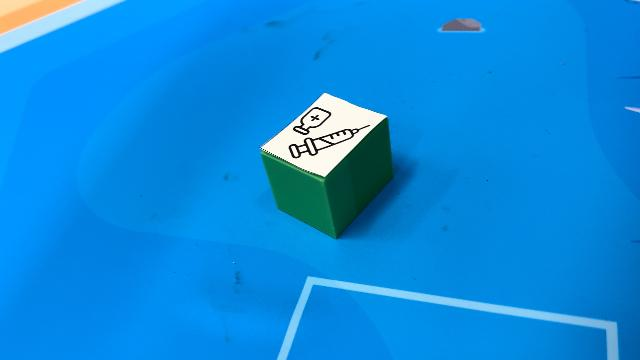syringe: (258, 92, 394, 238)
